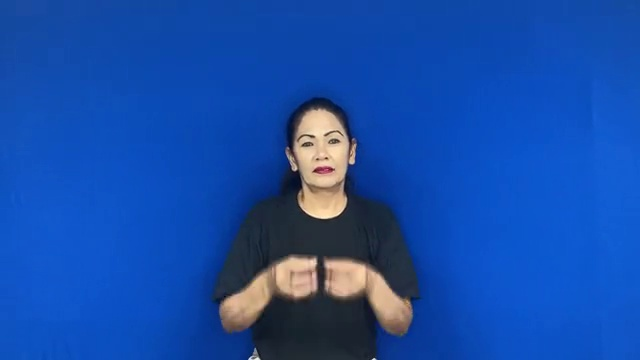egg: (262, 249, 378, 305)
